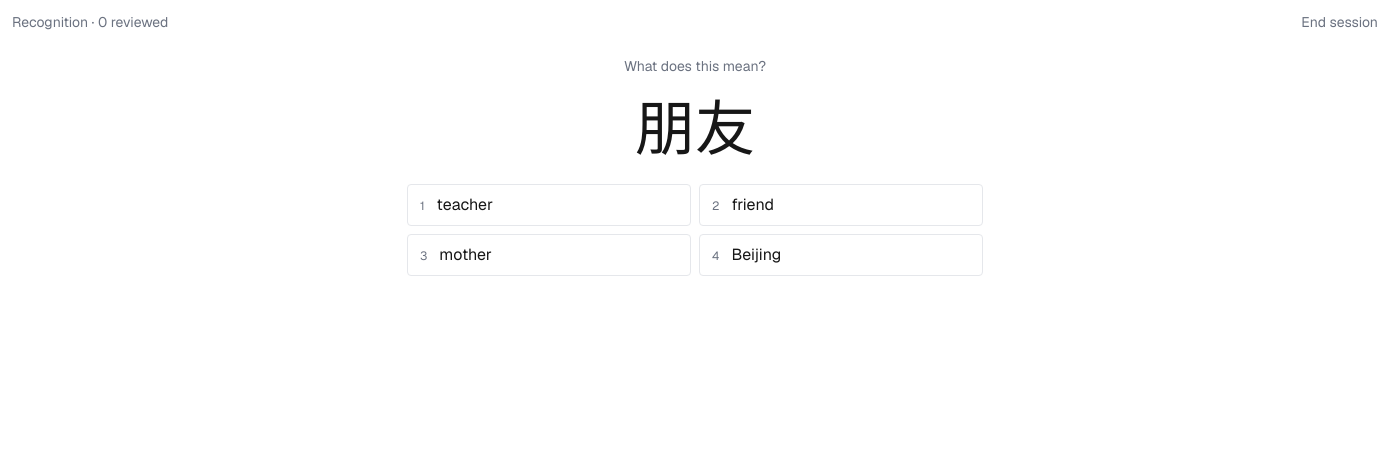
Scenario: ReviewSession › moves on when the card was already rated (409)
The width and height of the screenshot is (1390, 451).
Click the button "2 friend". click: (753,204)
box: x1=699 y1=184 x2=983 y2=226
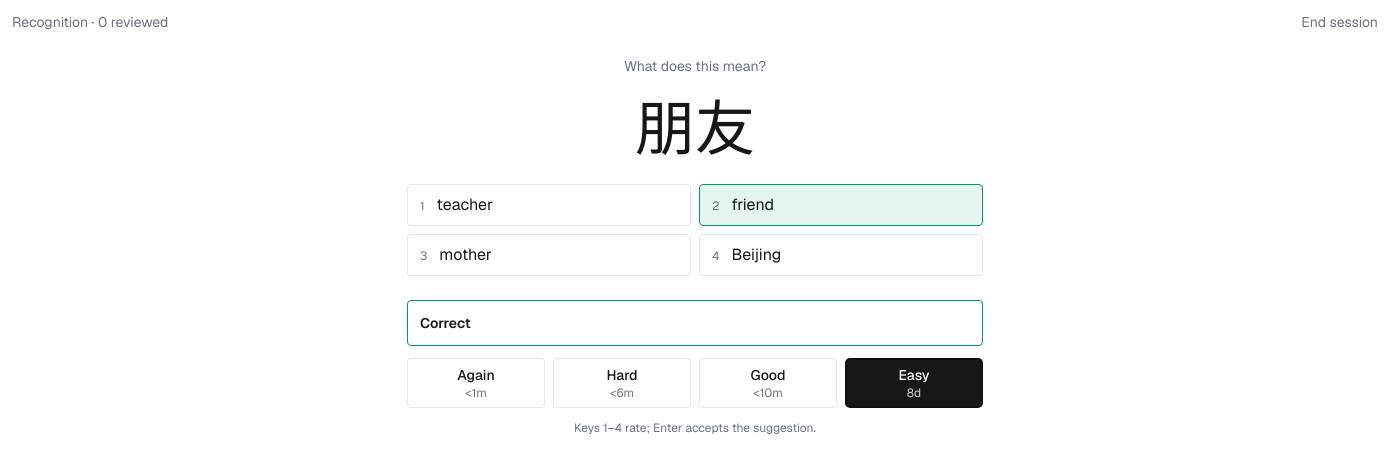
Click the button "Good <10m". click: (768,383)
box: x1=699 y1=358 x2=837 y2=408
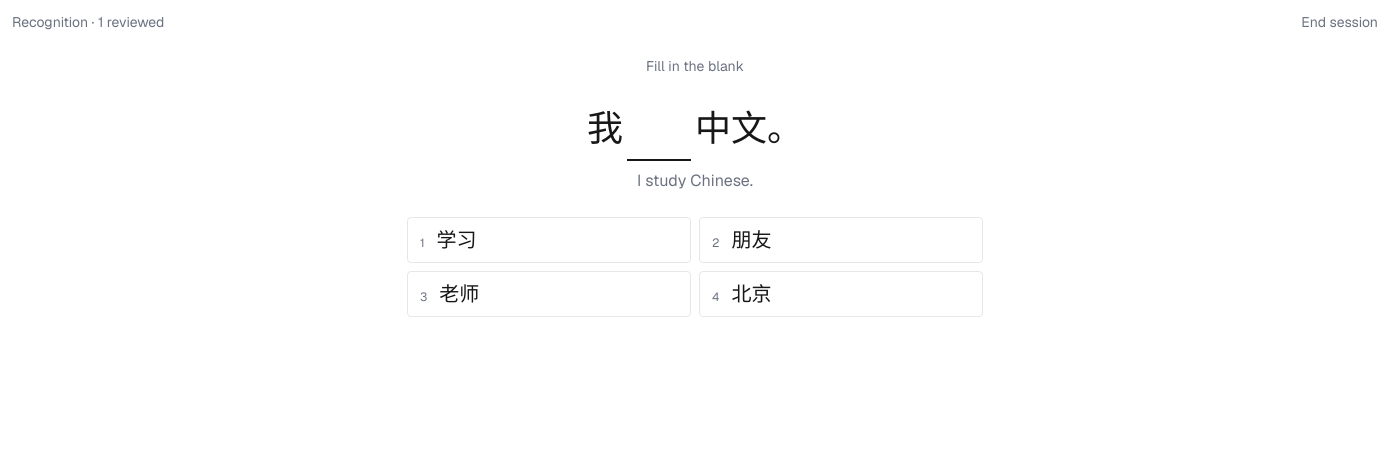
expect the text "I study Chinese." is shown: met, box x1=637 y1=170 x2=753 y2=190
expect the message "Correct" is gone: met
